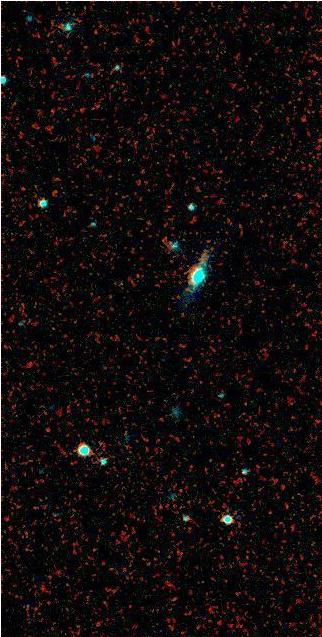star: (33, 414, 63, 444)
